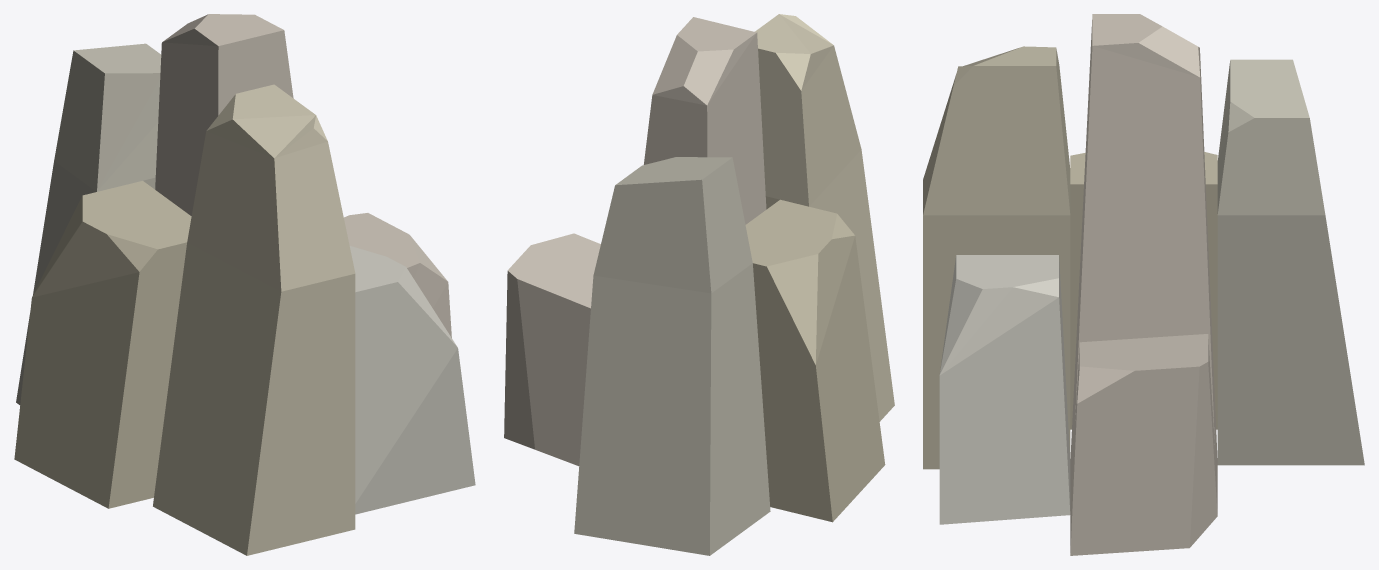
Rendered from Rocks_Square_l_01.fbx.
3 renders of one model, left to right at view 1: azimuth 30°, elevation 25°; view 2: azimuth 150°, elevation 25°; view 3: azimuth 270°, elevation 25°, orthographic. The views are drawn at different scales.
Visible parts, largest first — view 1: Rocks_Square_l_01; view 2: Rocks_Square_l_01; view 3: Rocks_Square_l_01.
Boxes of the visible parts, box(x1,y1,x2,y2) form: Rocks_Square_l_01: box(14, 14, 475, 555); Rocks_Square_l_01: box(504, 14, 894, 555); Rocks_Square_l_01: box(923, 14, 1364, 555).
Size of the model in its own units: 3.01 by 3.55 by 3.14.
